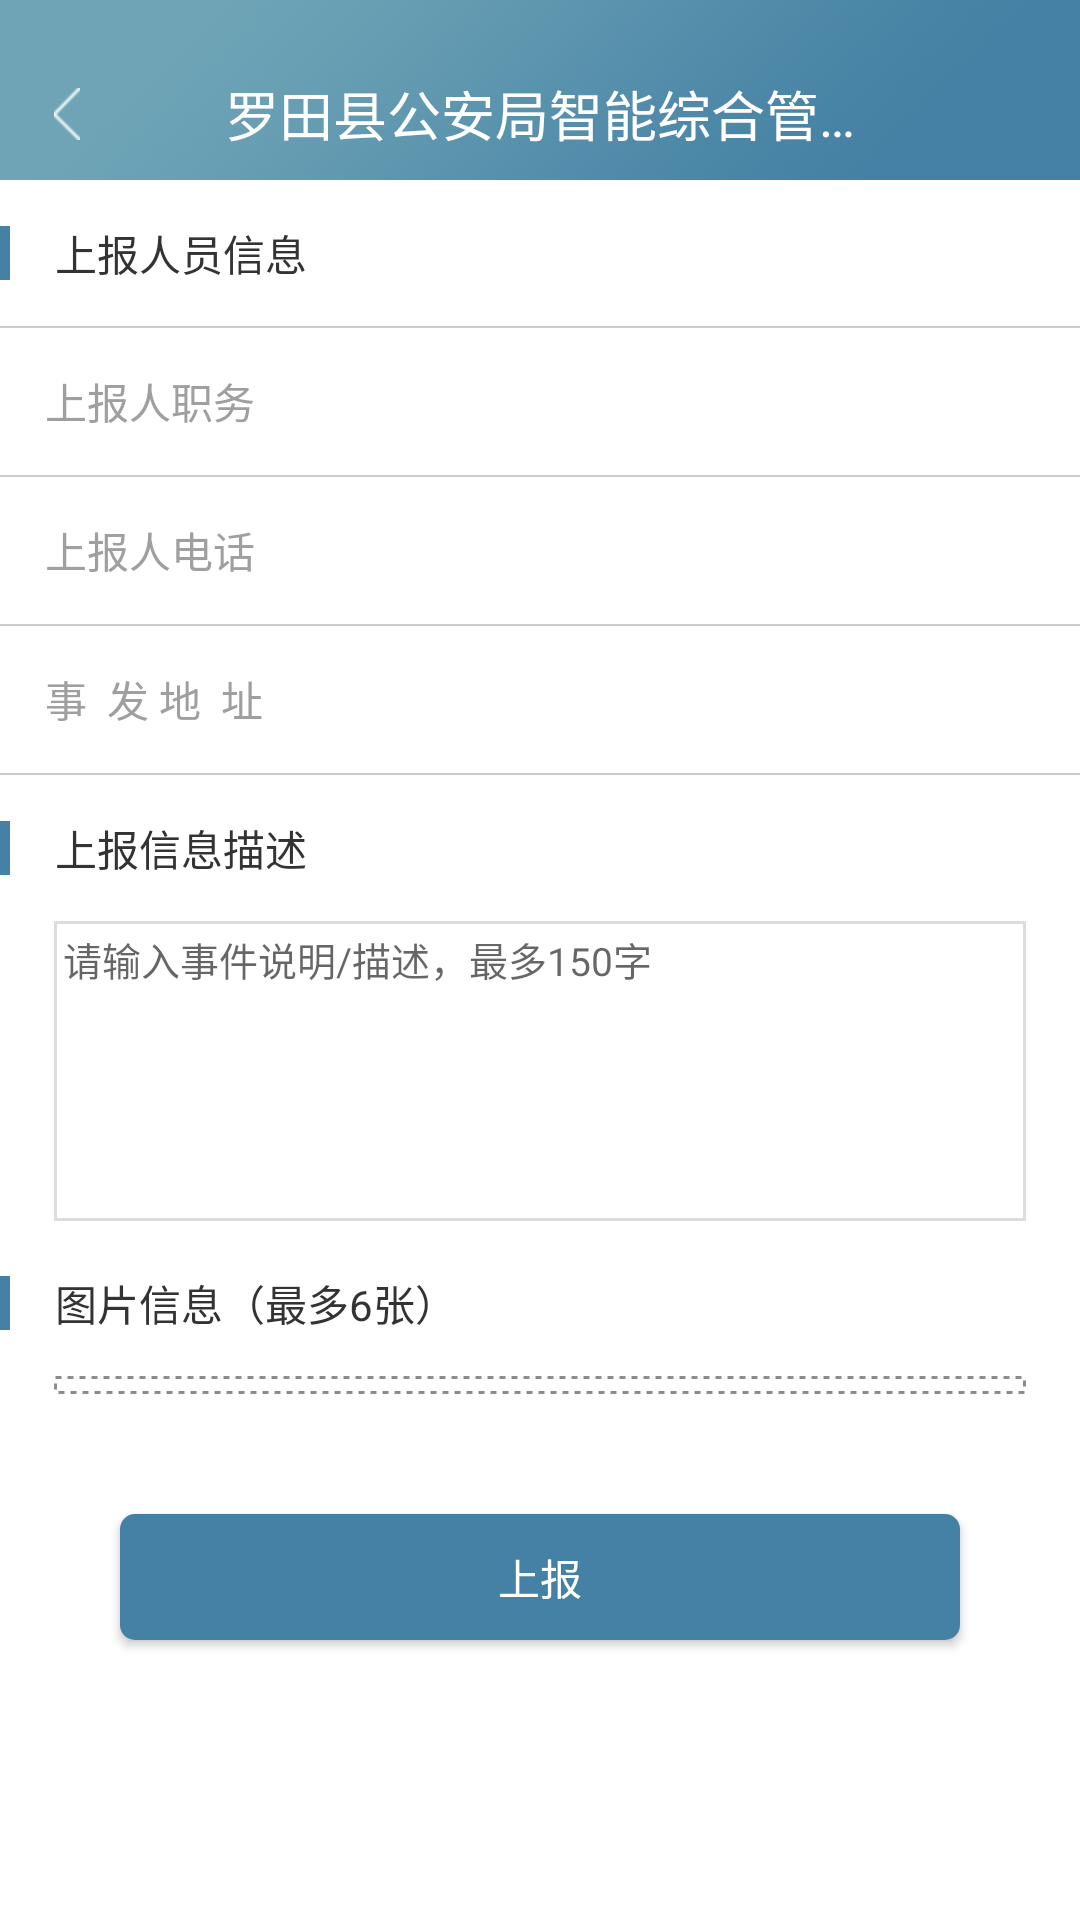

Icon bounding boxes for this 1080px x 1920px phone screenshot, format (x1, y1, x2, y2):
back: (54, 88, 80, 140)
